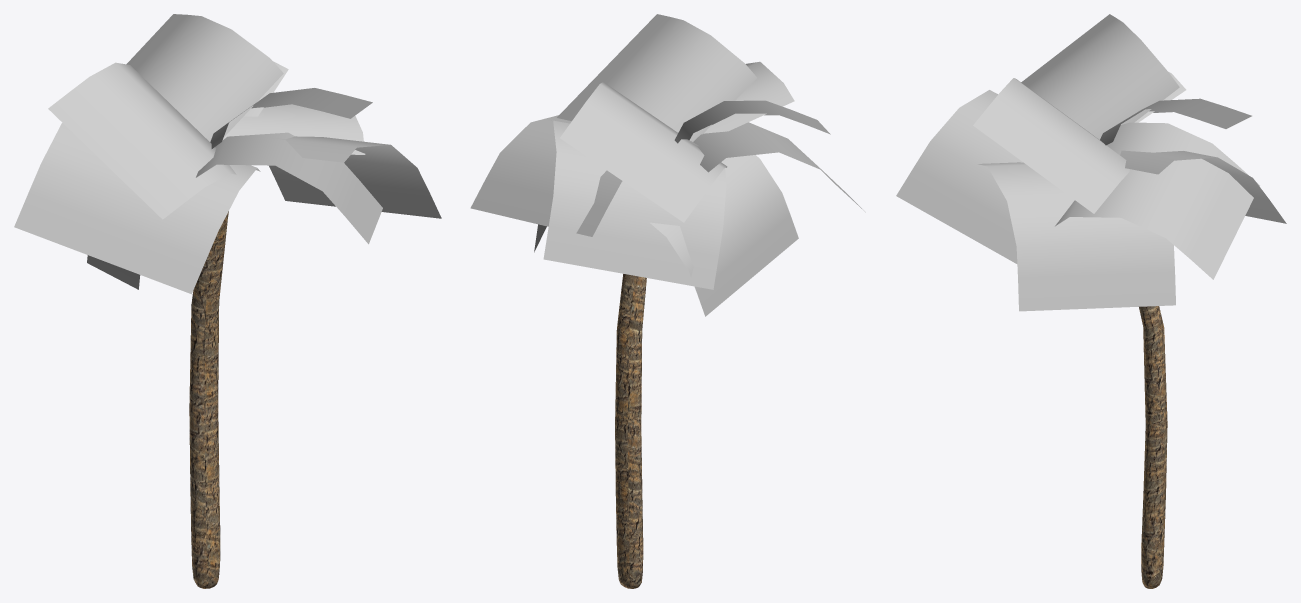
Rendered from palm2.fbx.
The picture shows the model from 3 angles, left to right: view 1: azimuth 30°, elevation 25°; view 2: azimuth 150°, elevation 25°; view 3: azimuth 270°, elevation 25°; orthographic projection. The views are drawn at different scales.
Parts seen in each view (by area): view 1: Palm2; view 2: Palm2; view 3: Palm2.
Boxes of the visible parts, x1,y1,x2,y2 form: Palm2: (14, 14, 441, 588); Palm2: (470, 14, 865, 588); Palm2: (896, 14, 1286, 588).
Bounding box in the file's own units: 852 × 1160 × 812.
